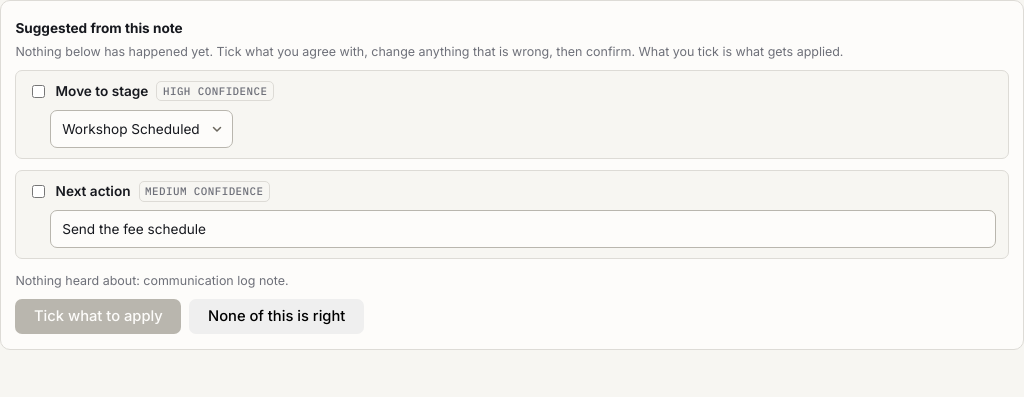
refusals reach the advisor › shows the reason an illegal move was refused
Click the checkbox labelled "Move to stage high confidence". click: (38, 91)
box: [32,85,45,98]
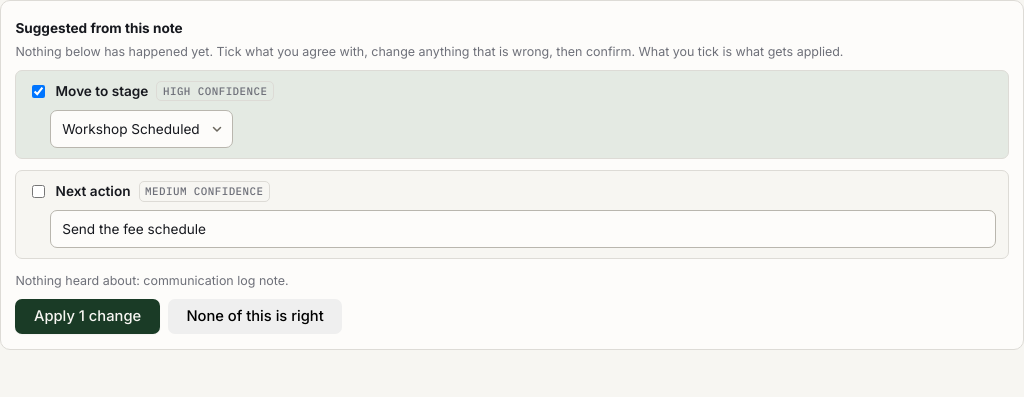
Click the button "Apply 1 change". click: (88, 316)
box: [15,298,160,334]
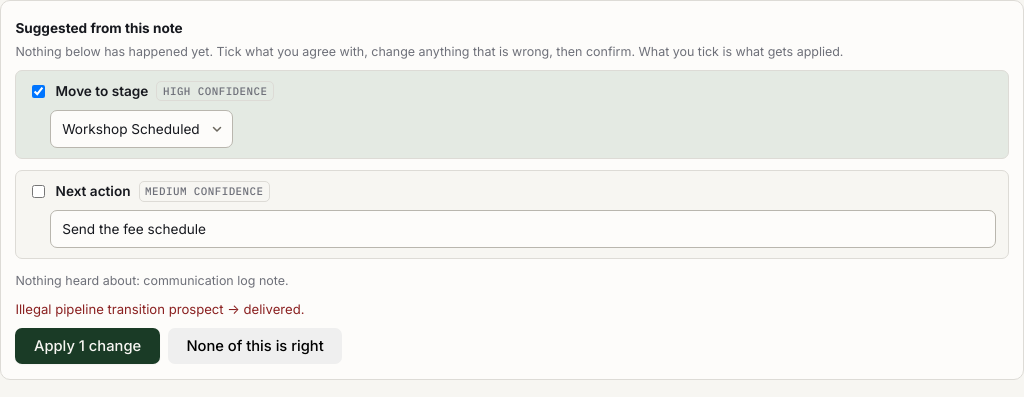
Check: the text "Illegal pipeline transition prospect → delivered." is shown, box [15,300,304,316]
